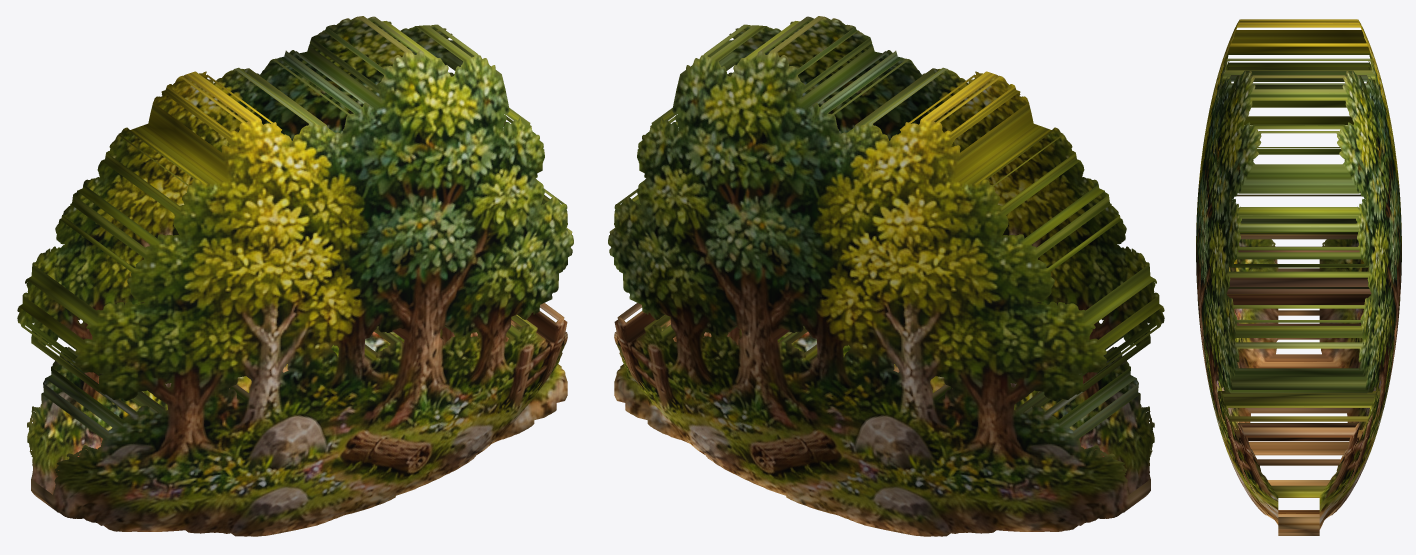
3 renders of one model, left to right at view 1: azimuth 30°, elevation 25°; view 2: azimuth 150°, elevation 25°; view 3: azimuth 270°, elevation 25°, orthographic. The views are drawn at different scales.
Visible parts, largest first — view 1: villages:5; view 2: villages:5; view 3: villages:5.
Boxes of the visible parts, x1=… form: villages:5: x1=17, y1=16, x2=573, y2=536; villages:5: x1=608, y1=16, x2=1164, y2=536; villages:5: x1=1196, y1=19, x2=1401, y2=535.
Size of the model in its own units: 1.14 by 0.95 by 0.42.
Materials: 1 (1 with a texture image).
